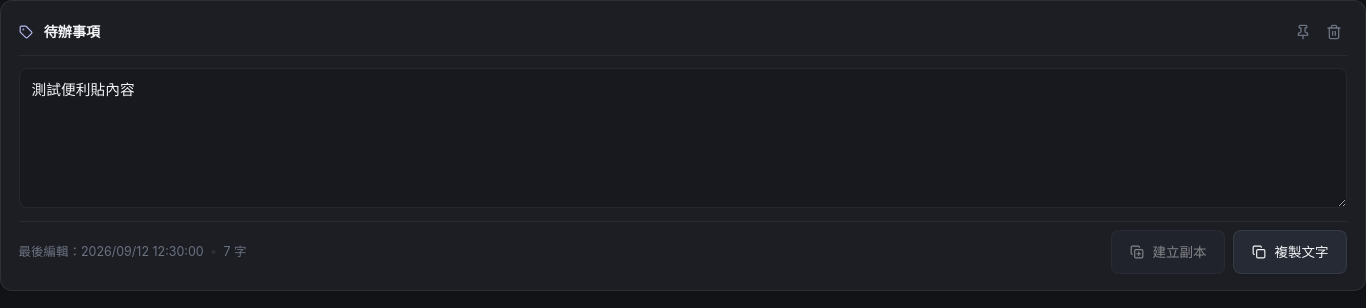
Test: StickyNoteCard › copies content to clipboard on click and shows feedback
Click the button with aria-label "一鍵複製文字內容" at {"x": 1290, "y": 252}, box [1233,230,1347,274]
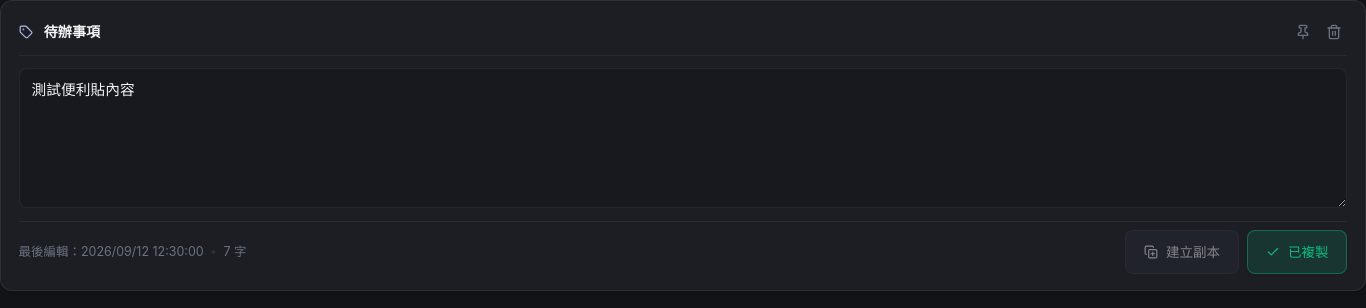
Check: the text "已複製" is shown, box [1288,243,1328,262]
